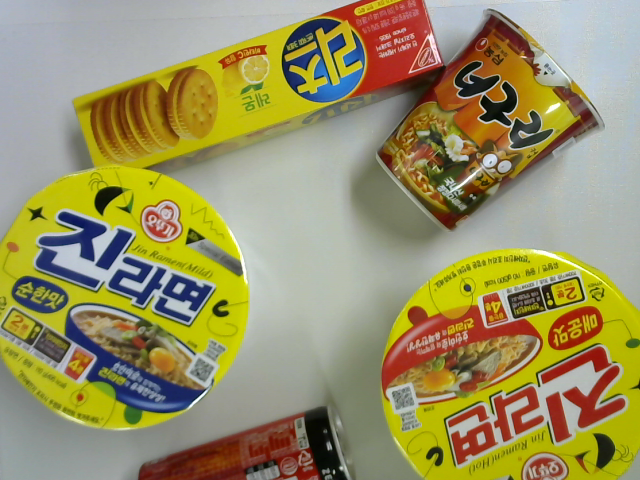Coca_Cola_Zero_Can_250ml: (139, 401, 359, 480)
Jinlamyeon_Hot_Taste_Large_Cup: (379, 245, 640, 480)
Jinlamyeon_Mild_Taste_Large_Cup: (1, 162, 251, 432)
Raccoon: (376, 7, 607, 233)
Ritz_Remon_96g: (72, 1, 445, 172)
